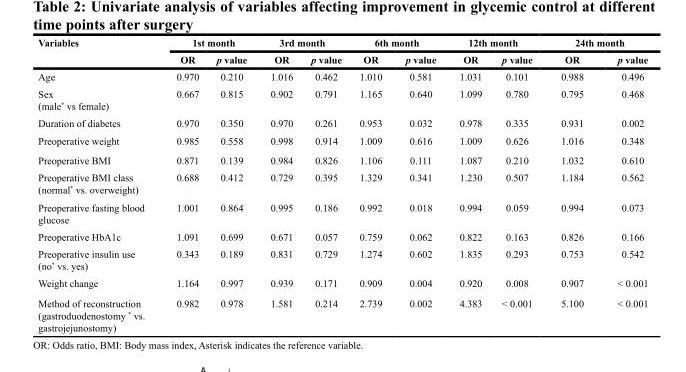table: (37, 36, 647, 332)
table column: (37, 36, 159, 332), (491, 36, 546, 332), (393, 36, 447, 332), (546, 36, 599, 332), (207, 36, 258, 332), (159, 36, 207, 332), (301, 36, 349, 332), (599, 36, 647, 332), (349, 36, 393, 332), (447, 36, 491, 332), (258, 36, 301, 332)
table column header: (37, 36, 647, 67)
table row: (37, 292, 647, 332), (37, 168, 647, 198), (37, 244, 647, 274), (37, 84, 647, 113), (37, 198, 647, 227), (37, 131, 647, 150), (37, 113, 647, 131), (37, 150, 647, 168), (37, 274, 647, 292), (37, 50, 647, 67), (37, 67, 647, 84), (37, 227, 647, 244), (37, 36, 647, 50)
table spanning cell: (37, 36, 159, 67), (546, 36, 647, 50), (159, 36, 258, 50), (447, 36, 546, 50), (349, 36, 447, 50), (258, 36, 349, 50)
